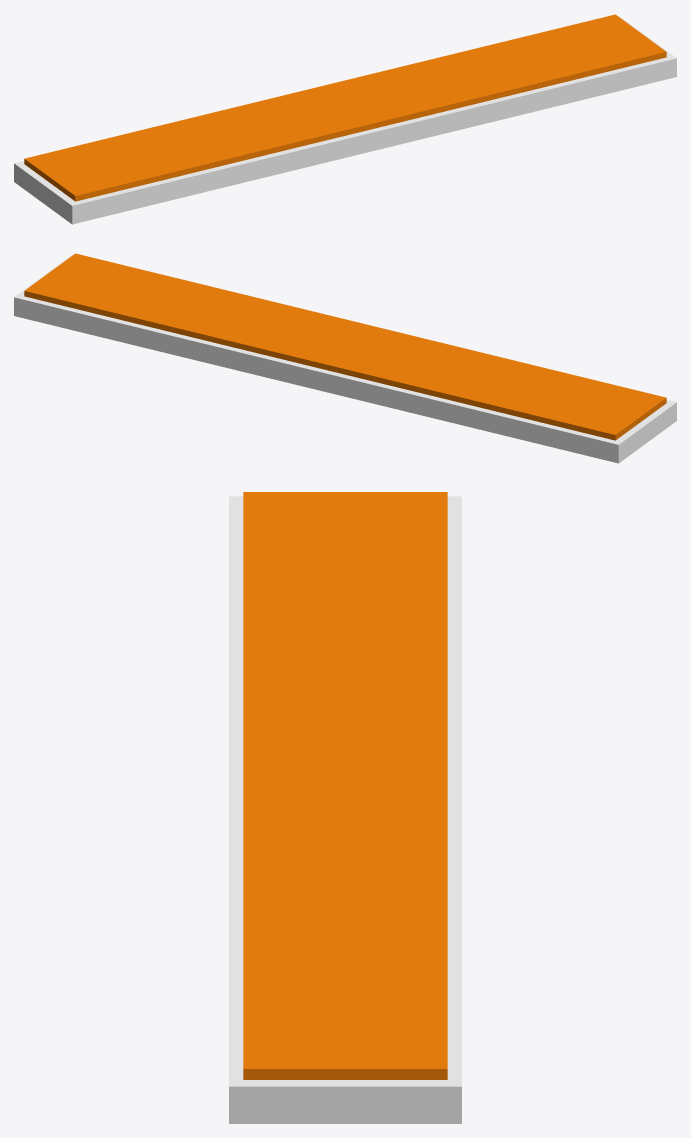
File: nameholder.glb
3 views of the same model, one above another, from view 1: azimuth 30°, elevation 25°; view 2: azimuth 150°, elevation 25°; view 3: azimuth 270°, elevation 25° (orthographic). The views are drawn at different scales.
Visible parts, largest first — view 1: Cube, Cube.001; view 2: Cube, Cube.001; view 3: Cube, Cube.001.
Boxes of the visible parts, x1,y1,x2,y2 form: Cube: [24, 14, 666, 201]; Cube.001: [14, 15, 676, 224]; Cube: [24, 253, 666, 440]; Cube.001: [14, 254, 676, 463]; Cube: [243, 492, 447, 1079]; Cube.001: [229, 496, 461, 1123].
Size of the model in its own units: 7.93 by 0.3031 by 1.32.
